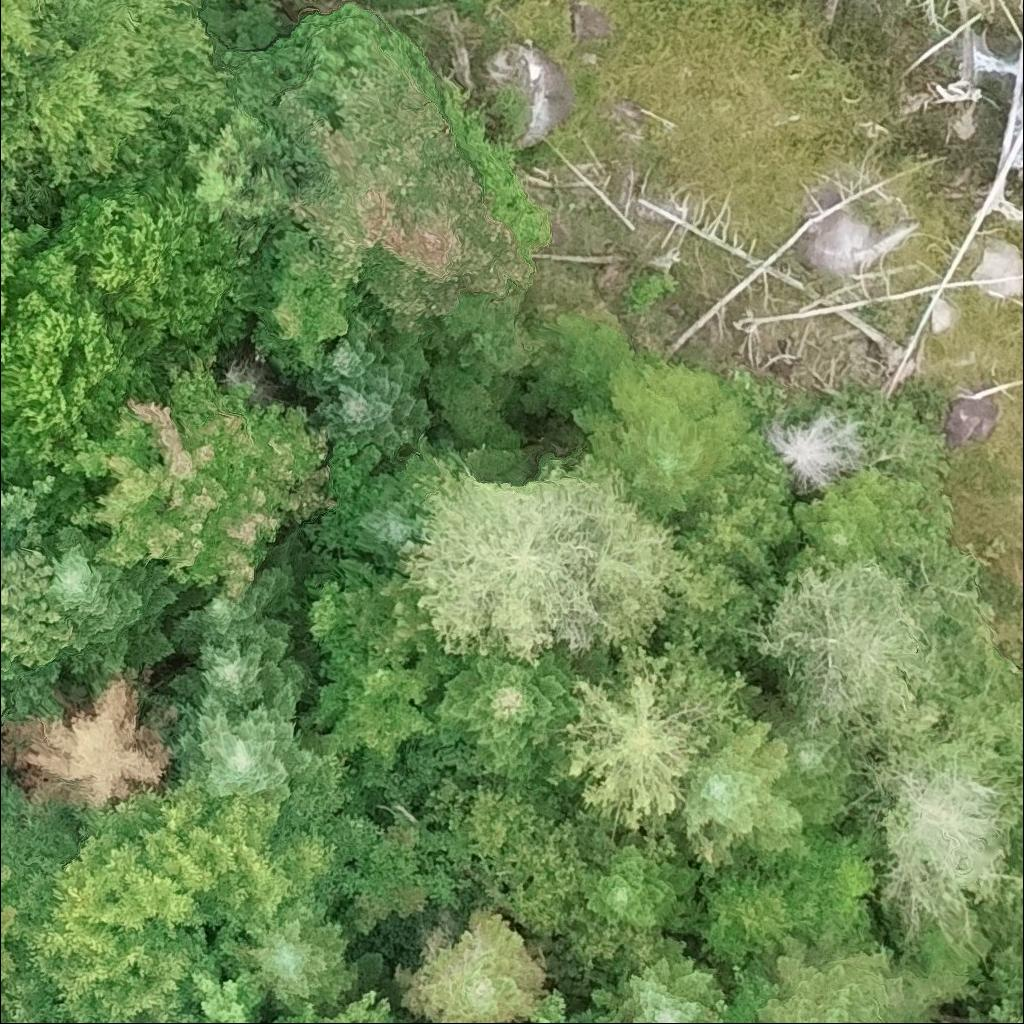crown: (0, 754, 379, 1023), (0, 168, 242, 526), (50, 351, 336, 602), (396, 450, 688, 663), (0, 0, 237, 224), (556, 630, 767, 835), (754, 558, 940, 757), (297, 559, 463, 767), (572, 356, 753, 519), (691, 819, 878, 966), (43, 524, 192, 691), (0, 668, 174, 808), (223, 228, 363, 384), (424, 647, 576, 782), (673, 426, 807, 579), (753, 934, 983, 1023), (677, 716, 807, 873), (177, 97, 290, 267), (0, 456, 73, 716), (160, 679, 319, 796), (395, 907, 550, 1023), (168, 539, 299, 659), (222, 906, 361, 1019), (309, 346, 432, 456), (657, 554, 772, 666), (165, 624, 310, 708), (589, 936, 727, 1023), (580, 839, 708, 931), (794, 468, 907, 565), (774, 716, 866, 827), (763, 409, 870, 500), (295, 306, 389, 404), (342, 487, 427, 574), (984, 754, 1023, 934), (179, 953, 265, 1023), (966, 944, 1023, 1023), (0, 0, 50, 87), (272, 990, 398, 1023), (0, 858, 25, 1013), (524, 988, 568, 1023), (568, 1006, 616, 1023), (58, 1015, 99, 1023)
